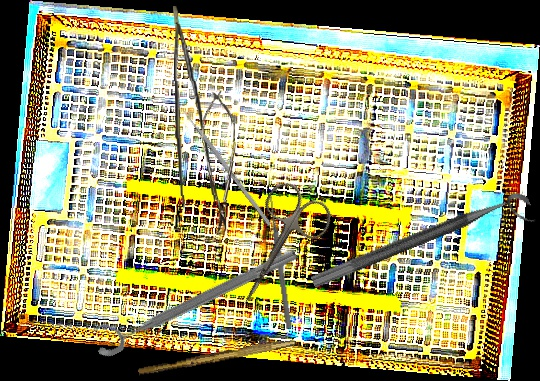Fixation Ring: (87, 232, 301, 361), (309, 188, 538, 307)
Iris Scissors: (213, 176, 339, 322)
Micro Scissor: (199, 87, 241, 236)
Pusher: (174, 98, 272, 227), (266, 195, 294, 329)
Scalpel Handle: (137, 334, 297, 379)
Tissue Forceps: (173, 5, 215, 214)
